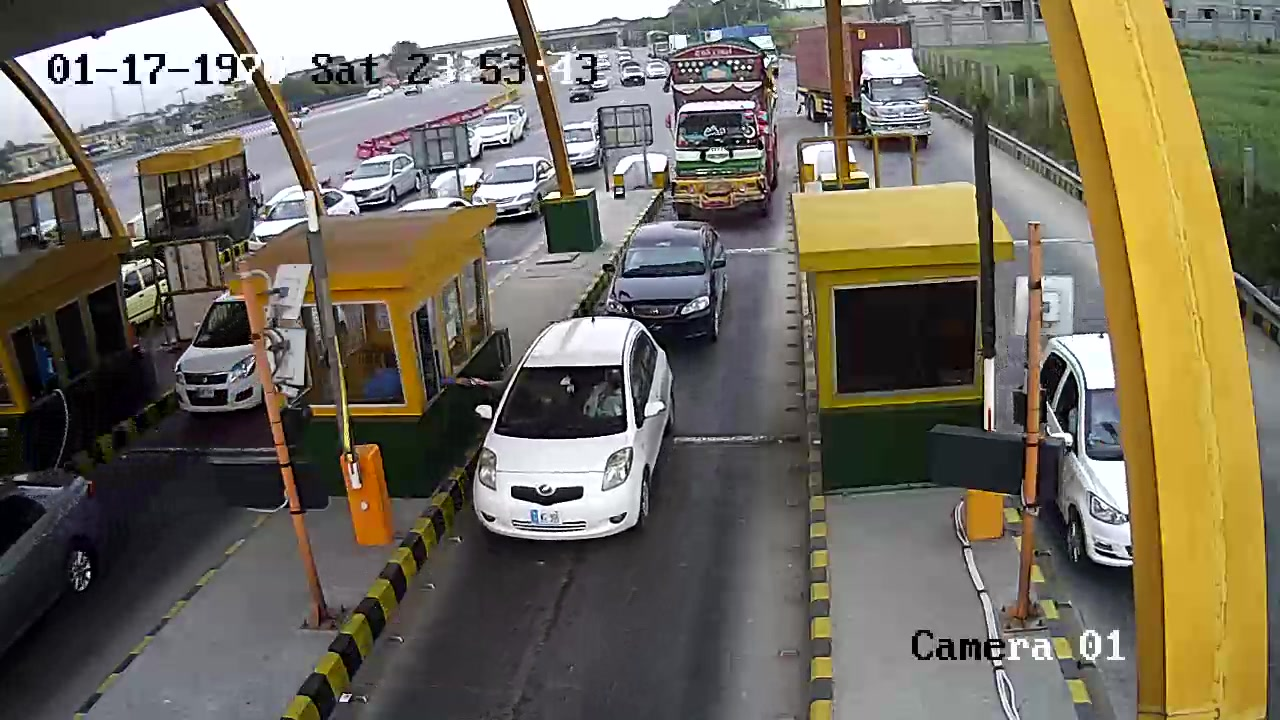F1: (465, 312, 690, 542)
